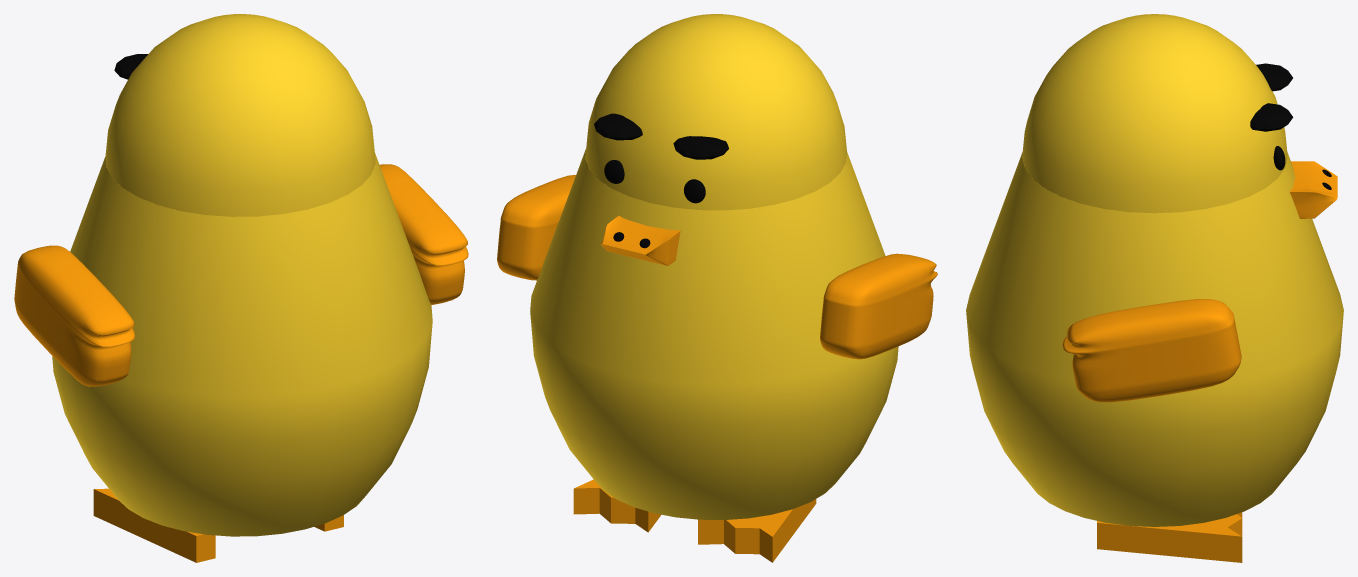
File: duck.fbx
3 renders of one model, left to right at view 1: azimuth 30°, elevation 25°; view 2: azimuth 150°, elevation 25°; view 3: azimuth 270°, elevation 25°, orthographic. The views are drawn at different scales.
Visible parts, largest first — view 1: body, head, wing_l, wing_r, foot_l; view 2: body, head, wing_l, wing_r, foot_l, beak, foot_r, eyebrow_l, eyebrow_r; view 3: body, head, wing_r, foot_r, beak, eyebrow_r, eyebrow_l.
Boxes of the visible parts, left/top/right/bottom form: body: left=52, top=153, right=432, bottom=536; head: left=105, top=14, right=375, bottom=216; wing_l: left=14, top=245, right=134, bottom=386; wing_r: left=379, top=164, right=468, bottom=304; foot_l: left=93, top=488, right=215, bottom=562; body: left=530, top=148, right=898, bottom=519; head: left=585, top=14, right=846, bottom=210; wing_l: left=820, top=253, right=937, bottom=359; wing_r: left=497, top=175, right=575, bottom=280; foot_l: left=698, top=499, right=816, bottom=562; beak: left=600, top=215, right=680, bottom=265; foot_r: left=573, top=479, right=661, bottom=532; eyebrow_l: left=673, top=136, right=728, bottom=159; eyebrow_r: left=594, top=113, right=642, bottom=140; body: left=966, top=152, right=1343, bottom=526; head: left=1022, top=14, right=1287, bottom=213; wing_r: left=1062, top=299, right=1241, bottom=402; foot_r: left=1097, top=512, right=1242, bottom=562; beak: left=1289, top=161, right=1337, bottom=218; eyebrow_r: left=1250, top=103, right=1293, bottom=131; eyebrow_l: left=1256, top=63, right=1292, bottom=91.
Bounding box in the file's own units: 1500 × 1854 × 1300.
